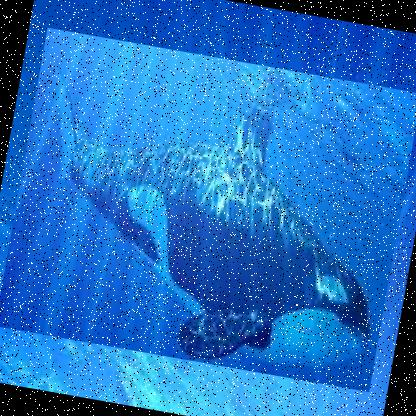killer_whale: (0, 26, 415, 393)
